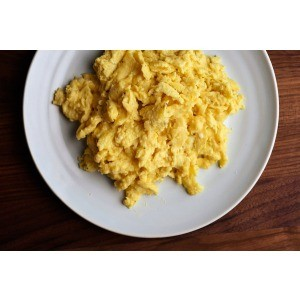egg_brain food: (110, 86, 197, 169)
